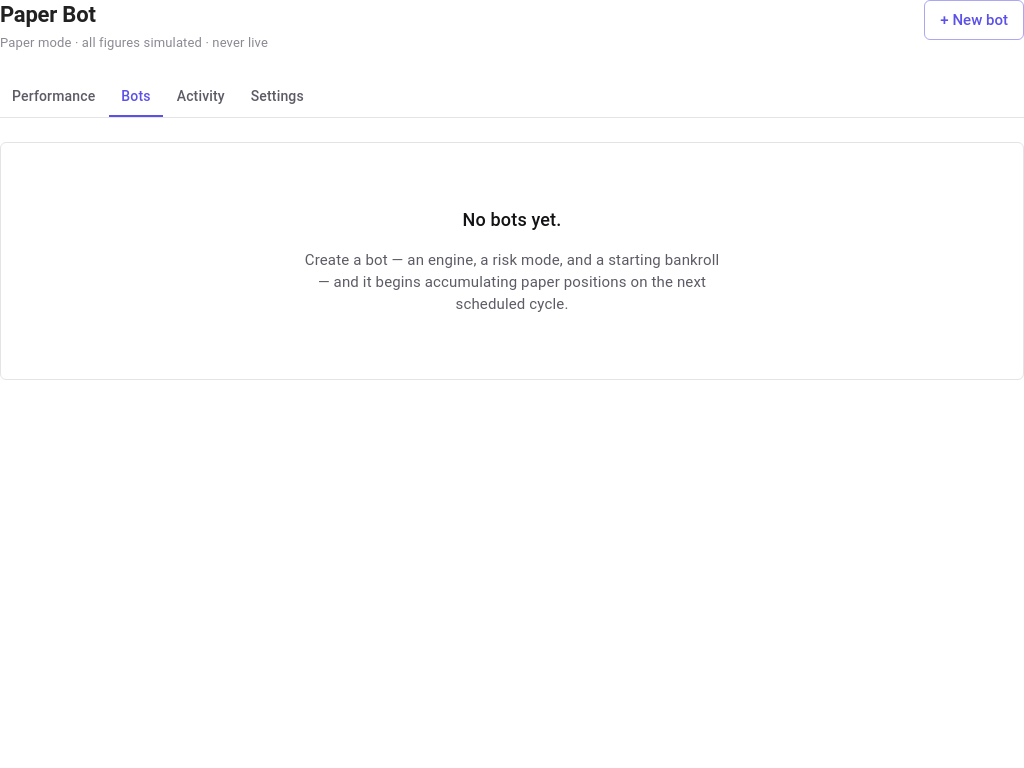
Test case: Paper Bot create form › blocks submit when the bankroll is not above zero
Click the button "+ New bot" at [974, 20], box [924, 0, 1023, 40]
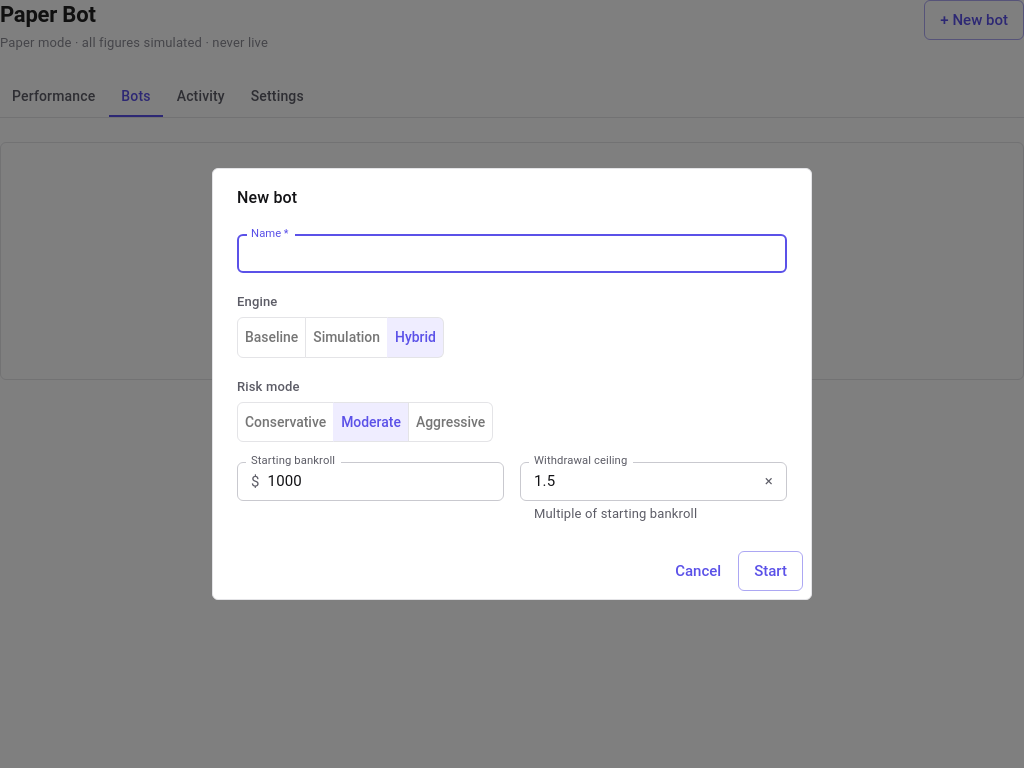
Type "Test bot" into the field labelled "Name *" at [512, 254], box [237, 235, 787, 274]
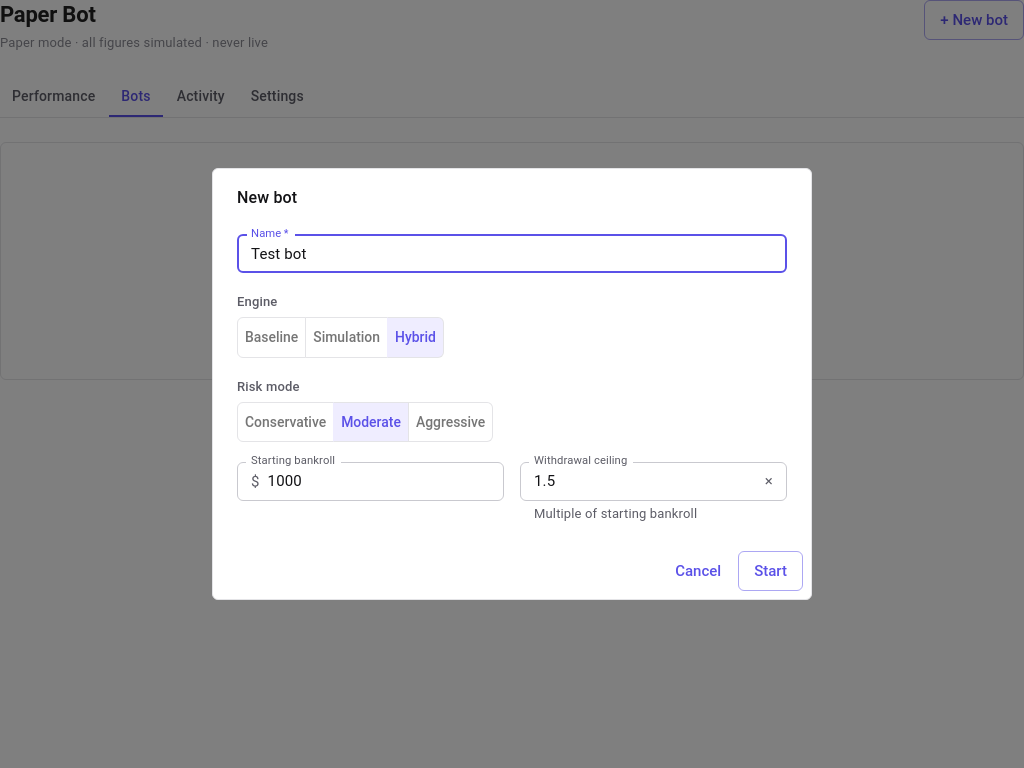
Replace the text in the number field labelled "Starting bankroll" with "0" at [386, 482], box [268, 462, 504, 501]
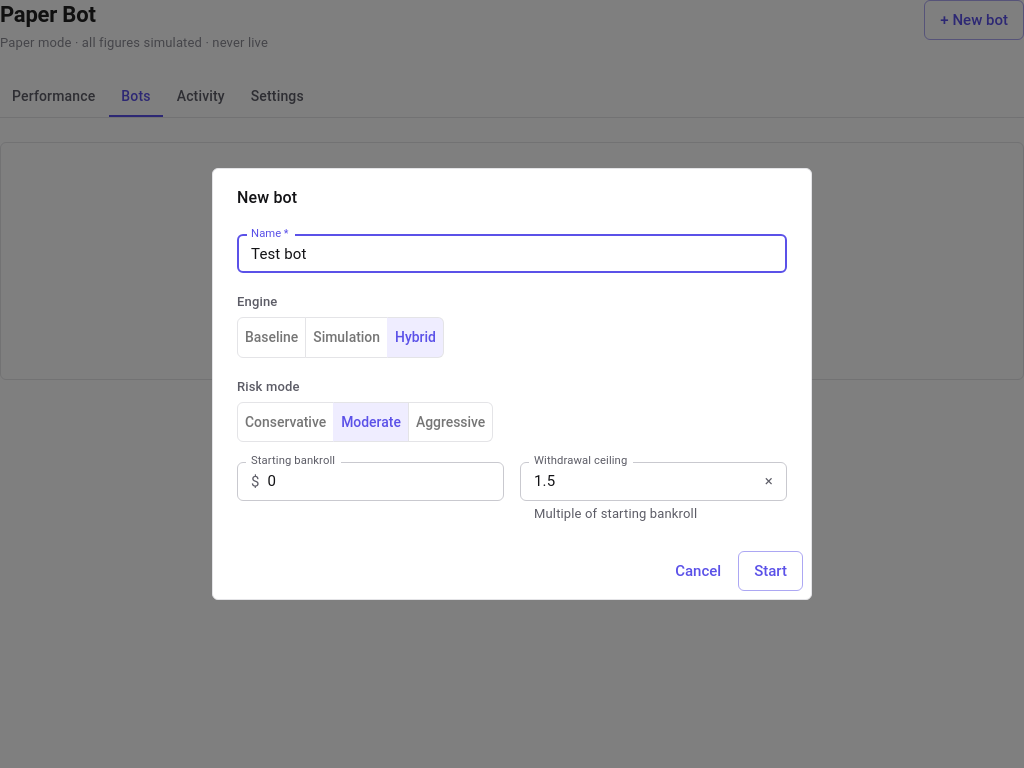
Click the button "Start" at [771, 571], box [738, 551, 803, 591]
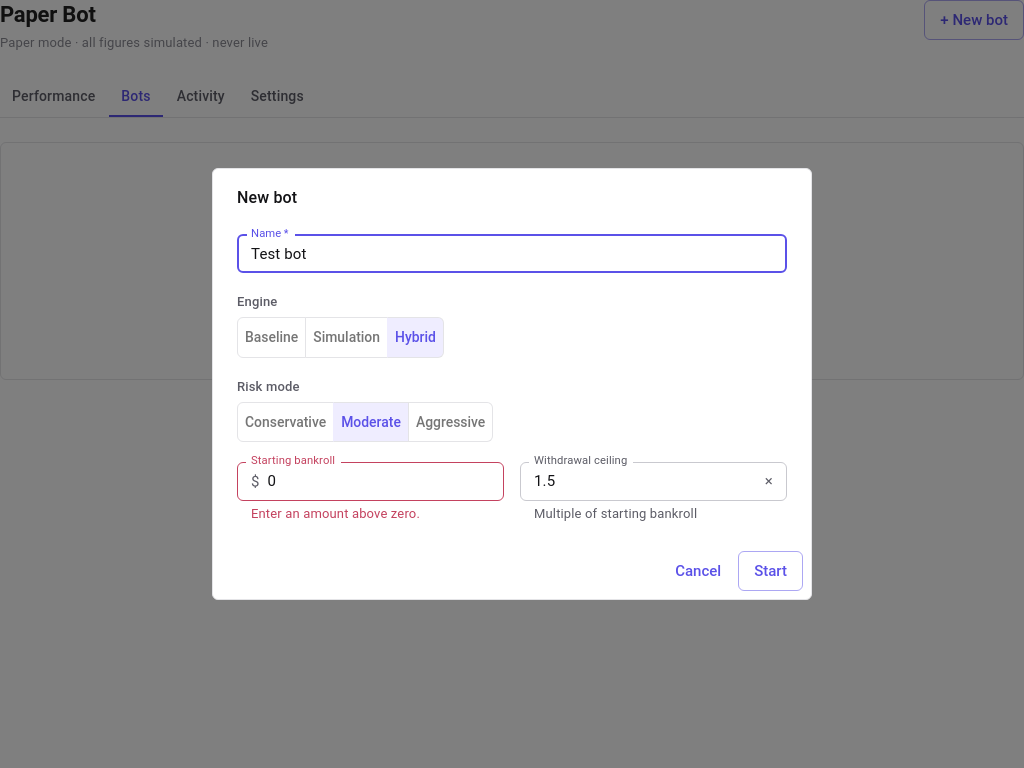
Expected: the text "Enter an amount above zero." is shown, [251, 506, 420, 521]
